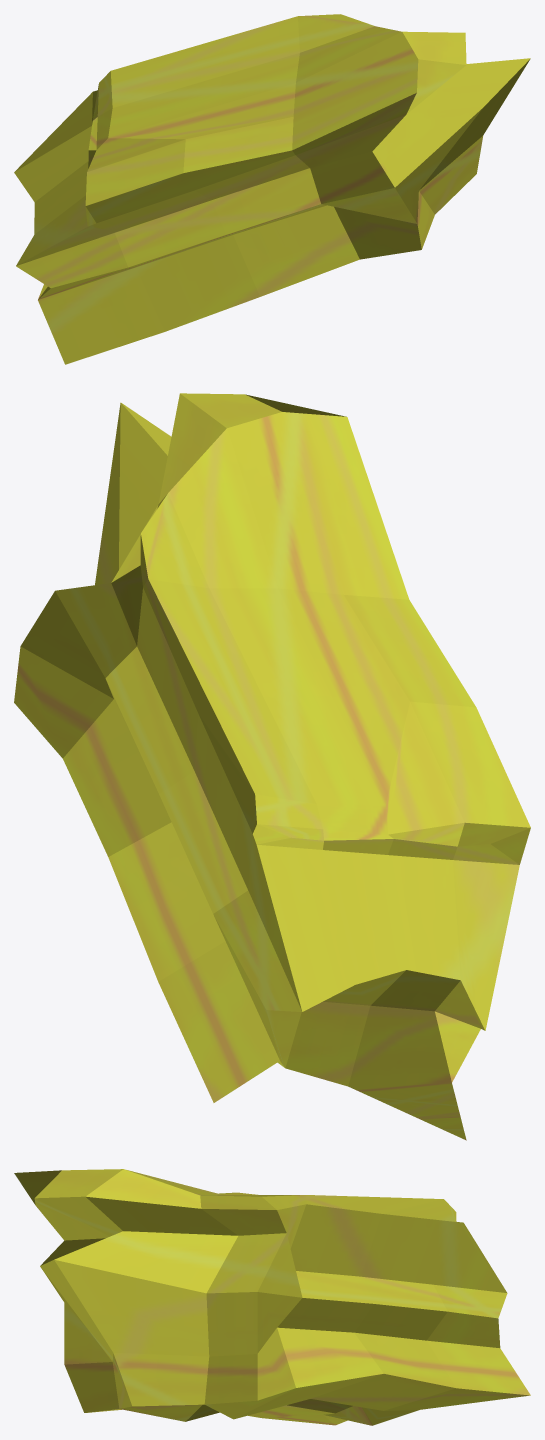
Rendered from Sulphur.glb.
The picture shows the model from 3 angles, top to bottom: view 1: azimuth 30°, elevation 25°; view 2: azimuth 150°, elevation 25°; view 3: azimuth 270°, elevation 25°; orthographic projection. The views are drawn at different scales.
Visible parts, largest first — view 1: Cube; view 2: Cube; view 3: Cube.
Part boxes in pixels (x1,y1,x2,y2): Cube: [14, 14, 530, 364]; Cube: [14, 393, 530, 1140]; Cube: [14, 1169, 530, 1425].
Bounding box in the file's own units: 0.874 × 0.7513 × 0.8851.
1 material, 1 textured.
